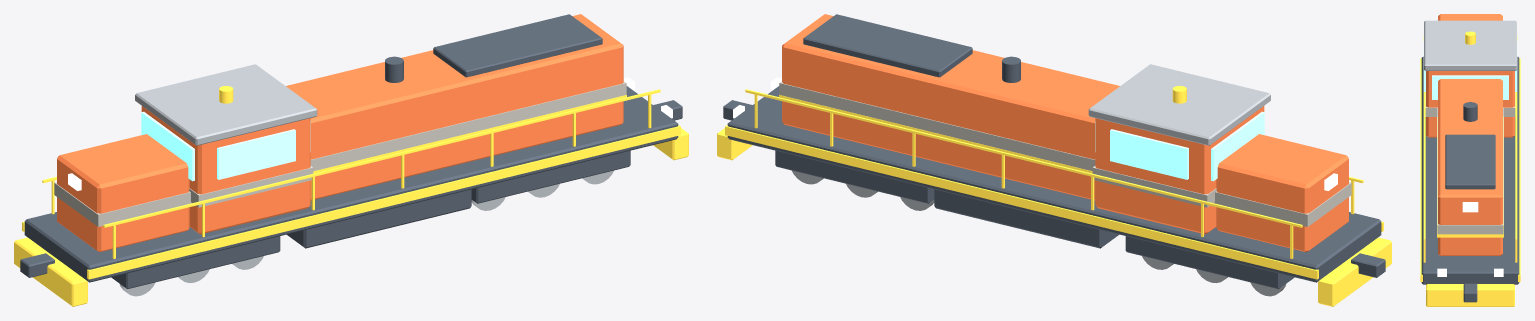
Rendered from df7g-locomotive-v6-medium.glb.
3 renders of one model, left to right at view 1: azimuth 30°, elevation 25°; view 2: azimuth 150°, elevation 25°; view 3: azimuth 270°, elevation 25°, orthographic. The views are drawn at different scales.
Parts seen in each view (by area): view 1: df7g-locomotive-v6-medium-v6_df7g_orange, df7g-locomotive-v6-medium-v5_bulk_gunmetal, df7g-locomotive-v6-medium-v5_bulk_yellow, df7g-locomotive-v6-medium-v5_bulk_silver, df7g-locomotive-v6-medium-v6_df7g_cream, df7g-locomotive-v6-medium-v5_bulk_glass; view 2: df7g-locomotive-v6-medium-v6_df7g_orange, df7g-locomotive-v6-medium-v5_bulk_gunmetal, df7g-locomotive-v6-medium-v5_bulk_yellow, df7g-locomotive-v6-medium-v5_bulk_silver, df7g-locomotive-v6-medium-v6_df7g_cream, df7g-locomotive-v6-medium-v5_bulk_glass; view 3: df7g-locomotive-v6-medium-v5_bulk_gunmetal, df7g-locomotive-v6-medium-v6_df7g_orange, df7g-locomotive-v6-medium-v5_bulk_silver, df7g-locomotive-v6-medium-v5_bulk_yellow, df7g-locomotive-v6-medium-v6_df7g_cream, df7g-locomotive-v6-medium-v5_bulk_glass, df7g-locomotive-v6-medium-v6_df7g_headlight.
Boxes of the visible parts, <box> form: df7g-locomotive-v6-medium-v6_df7g_orange: <box>57,14,623,251</box>; df7g-locomotive-v6-medium-v5_bulk_gunmetal: <box>20,14,682,288</box>; df7g-locomotive-v6-medium-v5_bulk_yellow: <box>14,86,688,306</box>; df7g-locomotive-v6-medium-v5_bulk_silver: <box>119,64,614,296</box>; df7g-locomotive-v6-medium-v6_df7g_cream: <box>54,81,626,226</box>; df7g-locomotive-v6-medium-v5_bulk_glass: <box>141,111,310,181</box>; df7g-locomotive-v6-medium-v6_df7g_orange: <box>782,14,1348,251</box>; df7g-locomotive-v6-medium-v5_bulk_gunmetal: <box>723,14,1385,289</box>; df7g-locomotive-v6-medium-v5_bulk_yellow: <box>717,86,1391,306</box>; df7g-locomotive-v6-medium-v5_bulk_silver: <box>791,64,1286,296</box>; df7g-locomotive-v6-medium-v6_df7g_cream: <box>779,81,1351,226</box>; df7g-locomotive-v6-medium-v5_bulk_glass: <box>1095,111,1264,181</box>; df7g-locomotive-v6-medium-v5_bulk_gunmetal: <box>1421,56,1519,302</box>; df7g-locomotive-v6-medium-v6_df7g_orange: <box>1426,14,1514,255</box>; df7g-locomotive-v6-medium-v5_bulk_silver: <box>1424,20,1516,70</box>; df7g-locomotive-v6-medium-v5_bulk_yellow: <box>1420,31,1520,306</box>; df7g-locomotive-v6-medium-v6_df7g_cream: <box>1425,92,1515,234</box>; df7g-locomotive-v6-medium-v5_bulk_glass: <box>1423,41,1517,99</box>; df7g-locomotive-v6-medium-v6_df7g_headlight: <box>1437,202,1503,276</box>.
Size of the model in its own units: 19.07 by 4.69 by 3.37.
